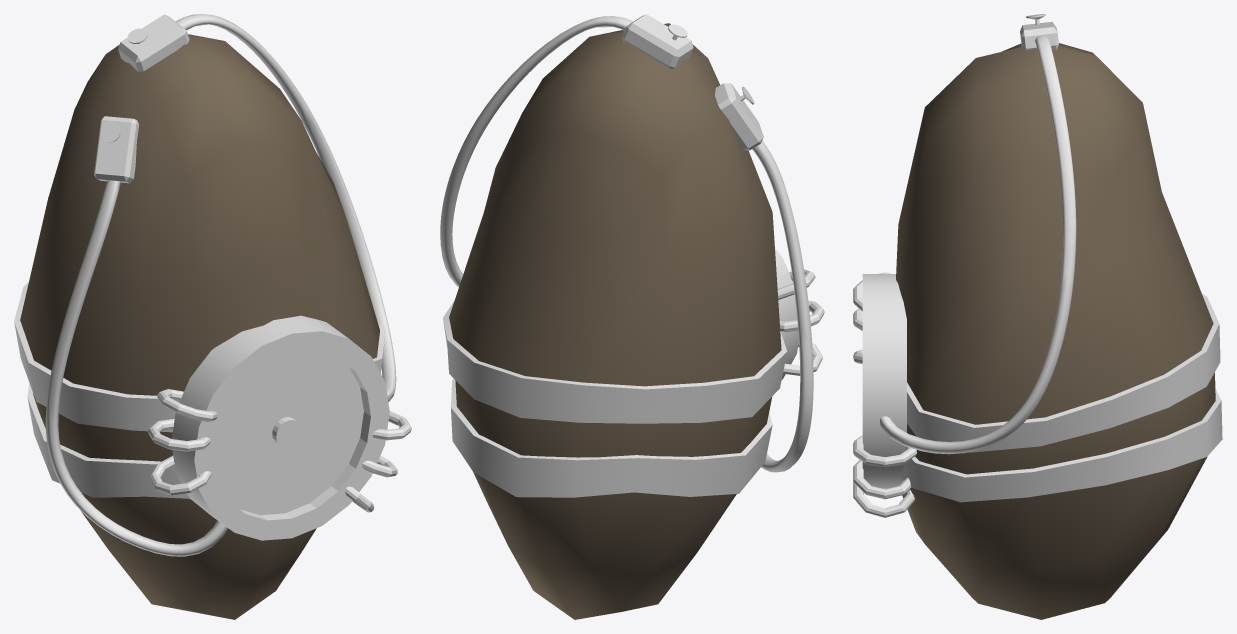
The model's file is Hot_Potato.fbx.
3 views of the same model, side by side, from view 1: azimuth 30°, elevation 25°; view 2: azimuth 150°, elevation 25°; view 3: azimuth 270°, elevation 25° (orthographic). The views are drawn at different scales.
Parts seen in each view (by area): view 1: pCube16, pCylinder26, pCube17, extrudedSurface1, extrudedSurface2, pCylinder28, pCylinder29, pTorus6, pTorus4, pTorus5, pTorus9; view 2: pCube16, pCube17, extrudedSurface1, extrudedSurface2, pCylinder29, pCylinder28, pCylinder26; view 3: pCube16, pCube17, pCylinder26, extrudedSurface2, pCylinder29, pTorus8, pTorus9, pTorus7.
Part boxes in pixels (x1=…): pCube16: x1=20, y1=34, x2=379, y2=619; pCylinder26: x1=172, y1=315, x2=389, y2=540; pCube17: x1=14, y1=282, x2=385, y2=498; extrudedSurface1: x1=45, y1=180, x2=228, y2=556; extrudedSurface2: x1=176, y1=14, x2=396, y2=401; pCylinder28: x1=94, y1=116, x2=138, y2=183; pCylinder29: x1=118, y1=14, x2=189, y2=71; pTorus6: x1=150, y1=455, x2=211, y2=495; pTorus4: x1=148, y1=419, x2=210, y2=451; pTorus5: x1=157, y1=389, x2=217, y2=421; pTorus9: x1=372, y1=411, x2=411, y2=440; pCube16: x1=449, y1=23, x2=781, y2=619; pCube17: x1=443, y1=300, x2=787, y2=497; extrudedSurface1: x1=752, y1=141, x2=813, y2=472; extrudedSurface2: x1=440, y1=16, x2=632, y2=287; pCylinder29: x1=622, y1=14, x2=693, y2=68; pCylinder28: x1=715, y1=83, x2=763, y2=150; pCylinder26: x1=775, y1=248, x2=798, y2=379; pCube16: x1=896, y1=43, x2=1215, y2=619; pCube17: x1=901, y1=294, x2=1222, y2=502; pCylinder26: x1=862, y1=274, x2=906, y2=488; extrudedSurface2: x1=880, y1=35, x2=1076, y2=454; pCylinder29: x1=1020, y1=14, x2=1058, y2=50; pTorus8: x1=853, y1=460, x2=911, y2=499; pTorus9: x1=853, y1=435, x2=916, y2=466; pTorus7: x1=853, y1=482, x2=915, y2=517.
Bounding box in the file's own units: 29.67 × 48.95 × 28.5.
